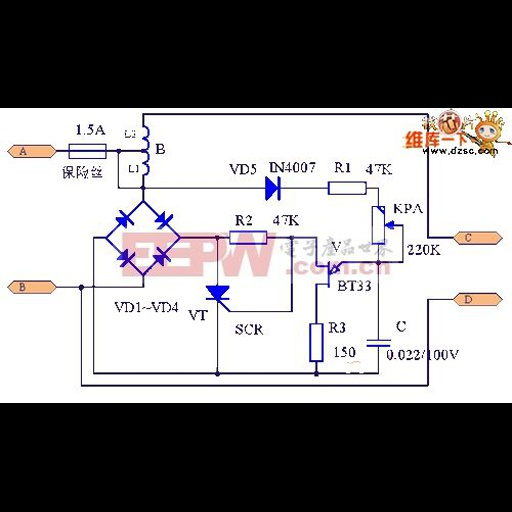capacitor: (363, 334, 393, 349)
firstdiode: (260, 174, 288, 202)
firstresistance: (226, 227, 274, 250), (322, 178, 370, 199), (307, 319, 326, 365)
fuse: (64, 141, 113, 163)
inductor: (140, 120, 153, 181)
rectifierbridge: (104, 201, 186, 278)
